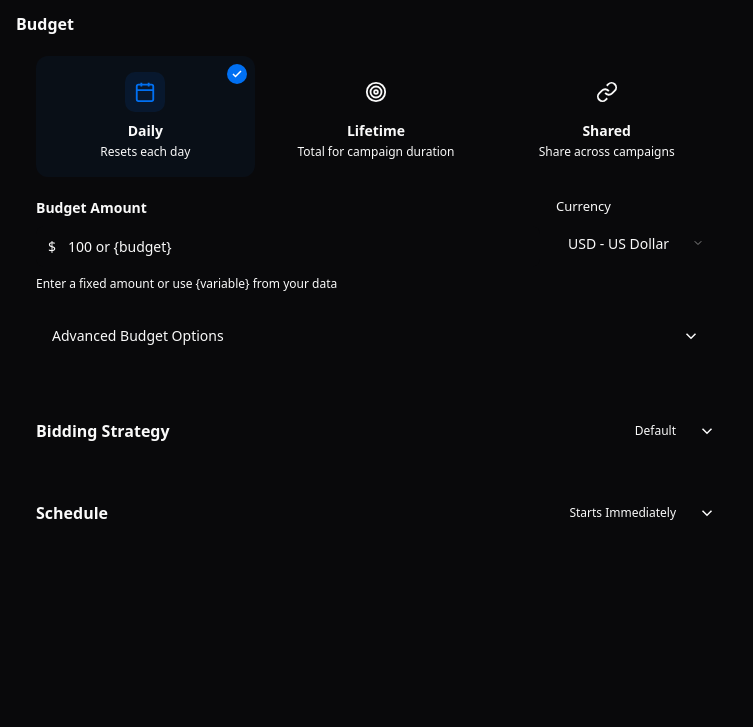
it: BudgetBiddingConfig › Section Expansion/Collapse › collapses bidding section when header is clicked again
The width and height of the screenshot is (753, 727).
Click the button "Bidding Strategy Default" at point(103, 431), box [16,402,736,460]
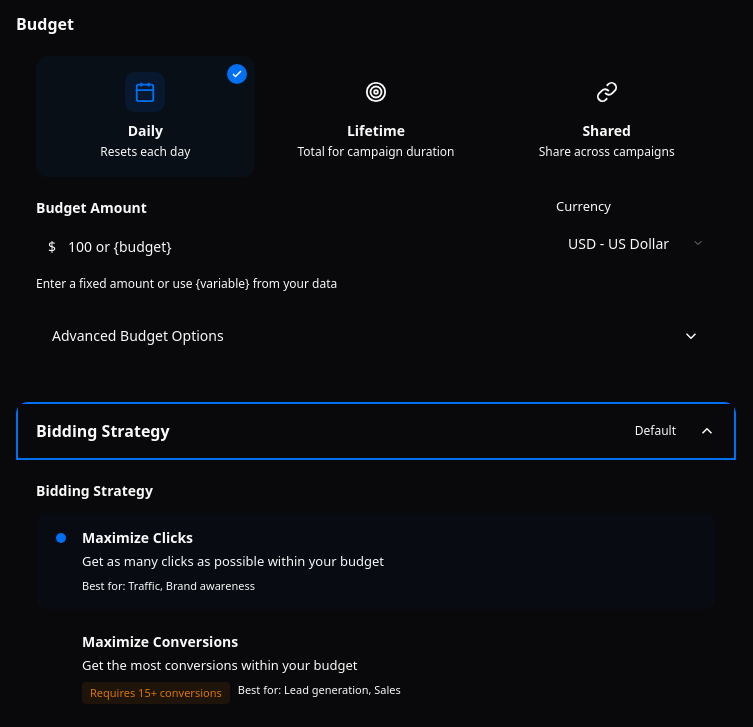
Result: the radio button with test id "strategy-maximize_clicks" is shown at [36,513,716,609]
Click the button "Bidding Strategy Default" at point(103, 431), box [16,402,736,460]
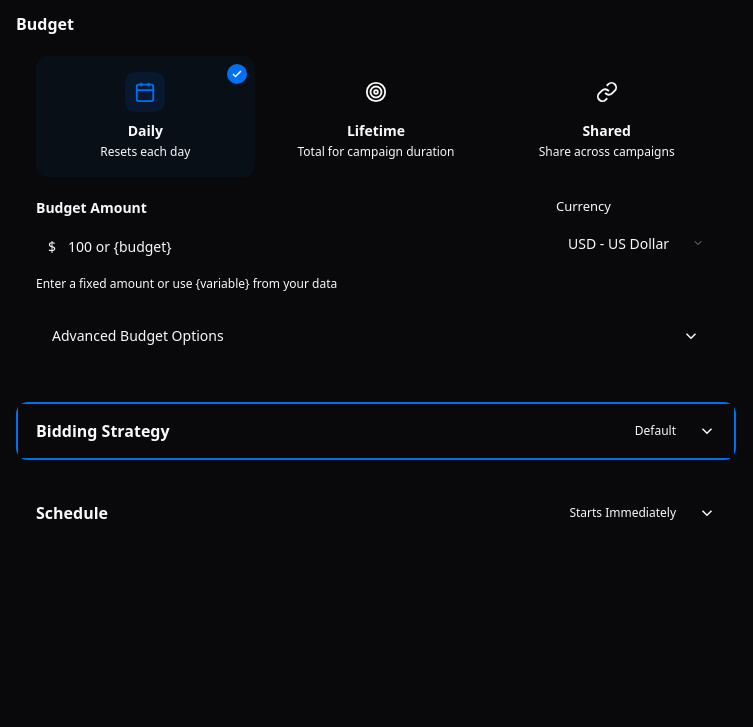
Result: the radio button with test id "strategy-maximize_clicks" is gone
